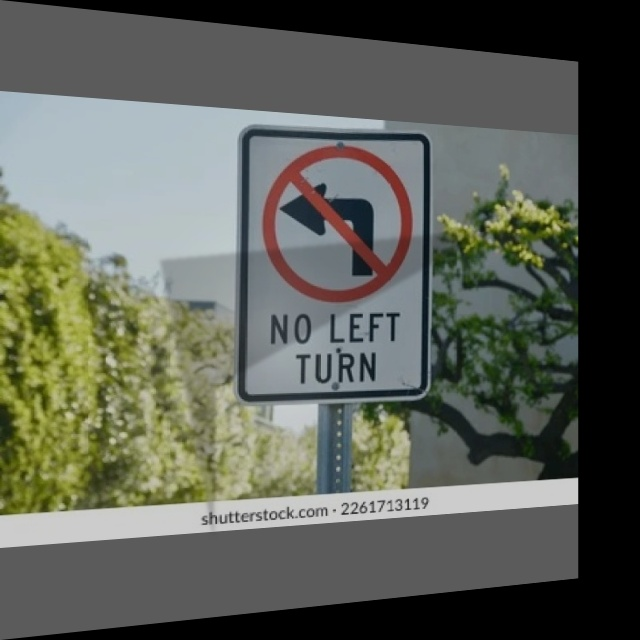Left_Turn_Prohibited: (255, 137, 416, 307)
